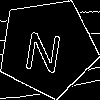N: (22, 22, 65, 73)
